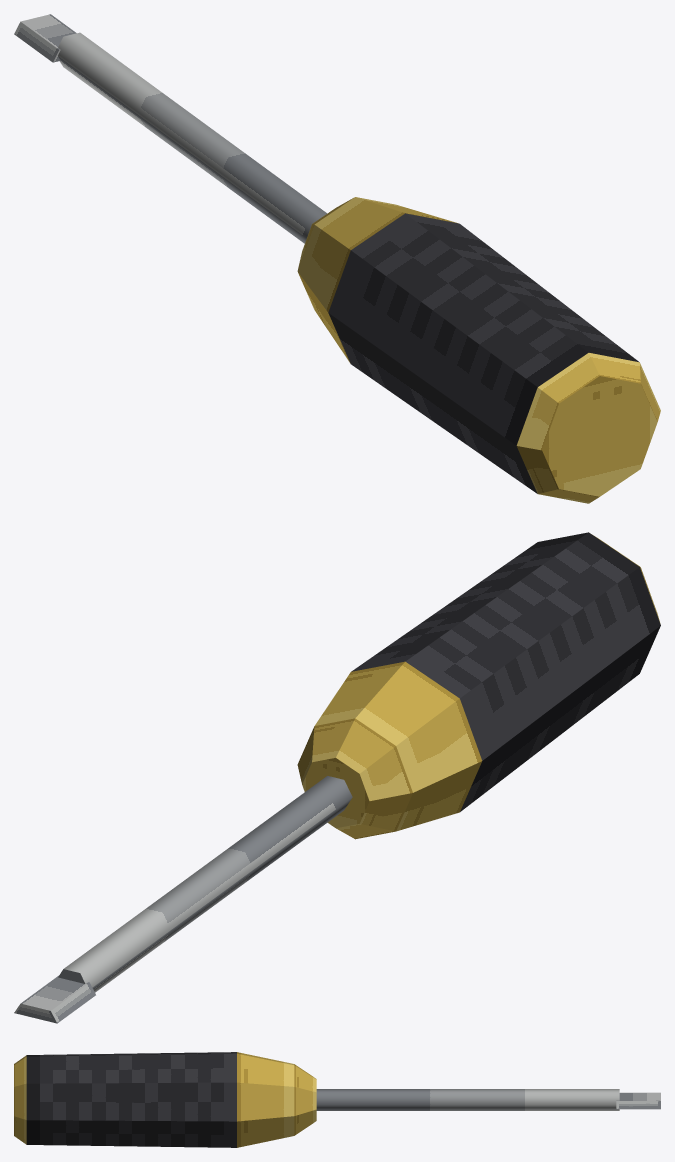
The model's file is INV_Screwdriver.glb.
The picture shows the model from 3 angles, top to bottom: view 1: azimuth 30°, elevation 25°; view 2: azimuth 150°, elevation 25°; view 3: azimuth 270°, elevation 25°; orthographic projection. The views are drawn at different scales.
Parts seen in each view (by area): view 1: INV_Screwdriver_Mesh; view 2: INV_Screwdriver_Mesh; view 3: INV_Screwdriver_Mesh.
Part boxes in pixels (x1,y1,x2,y2): INV_Screwdriver_Mesh: [14, 14, 660, 503]; INV_Screwdriver_Mesh: [14, 532, 660, 1023]; INV_Screwdriver_Mesh: [14, 1052, 660, 1147].
Size of what is drawn, in the model's own units: 0.032 by 0.032 by 0.203.
Materials: 1 (1 with a texture image).
